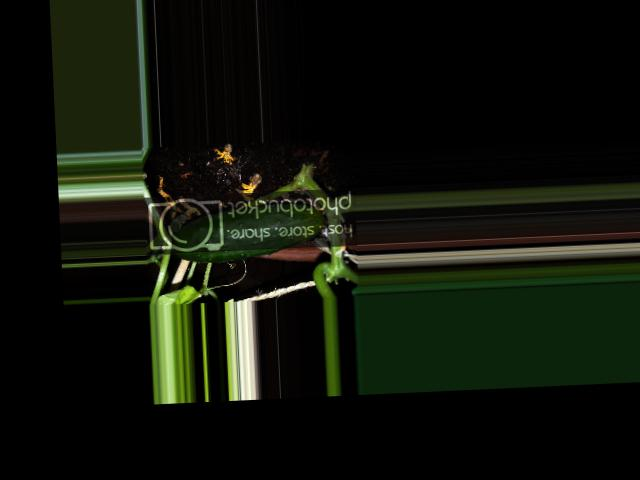cucumber: (171, 200, 325, 263)
